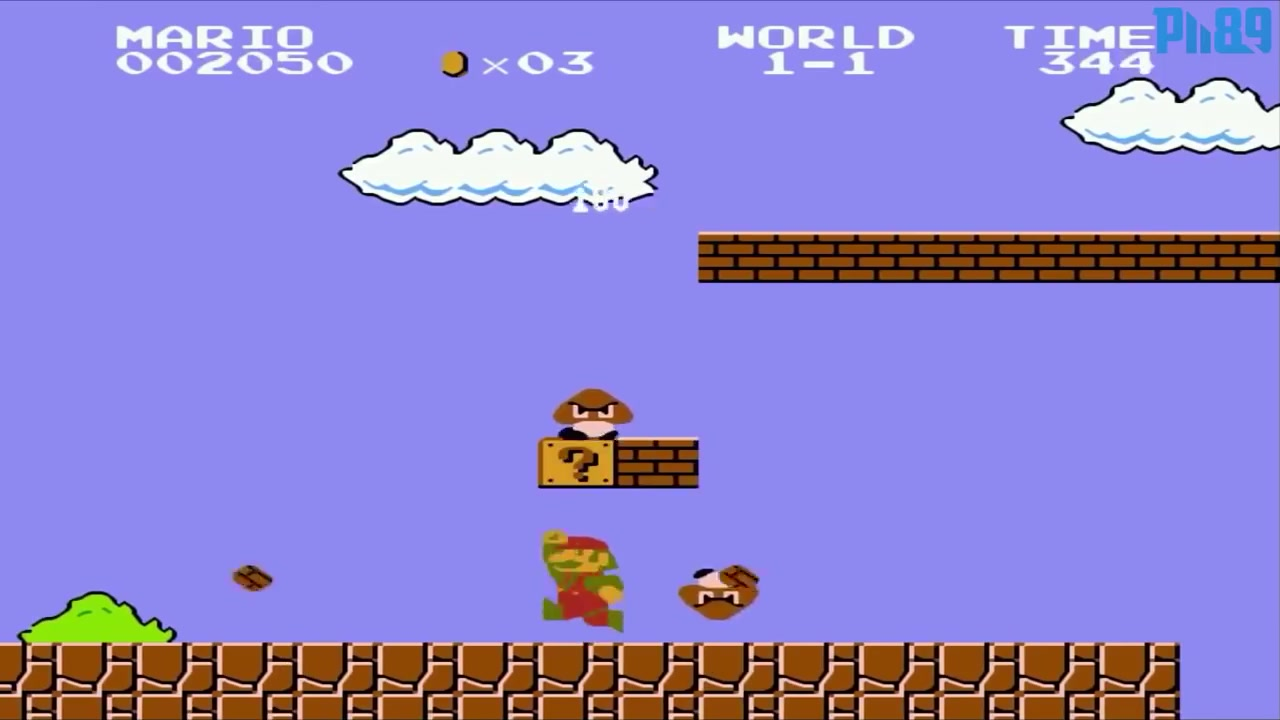mario: (528, 517, 639, 637)
